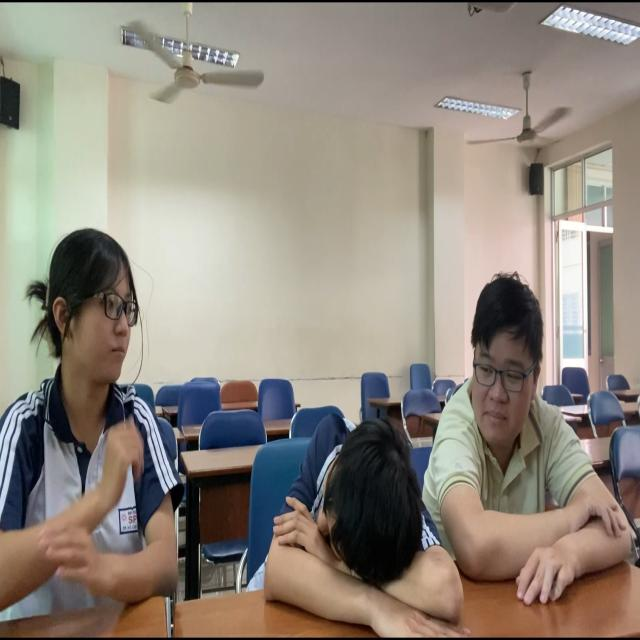sleep: (219, 371, 465, 640)
